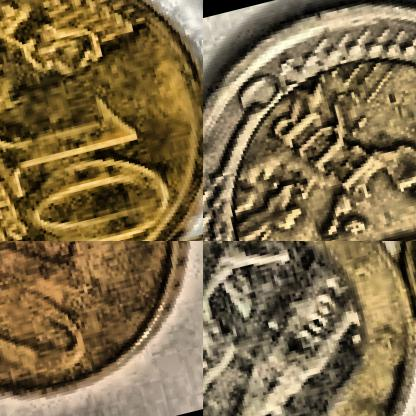coin: (203, 0, 415, 240), (0, 0, 202, 240), (203, 241, 415, 415), (0, 241, 202, 415)
